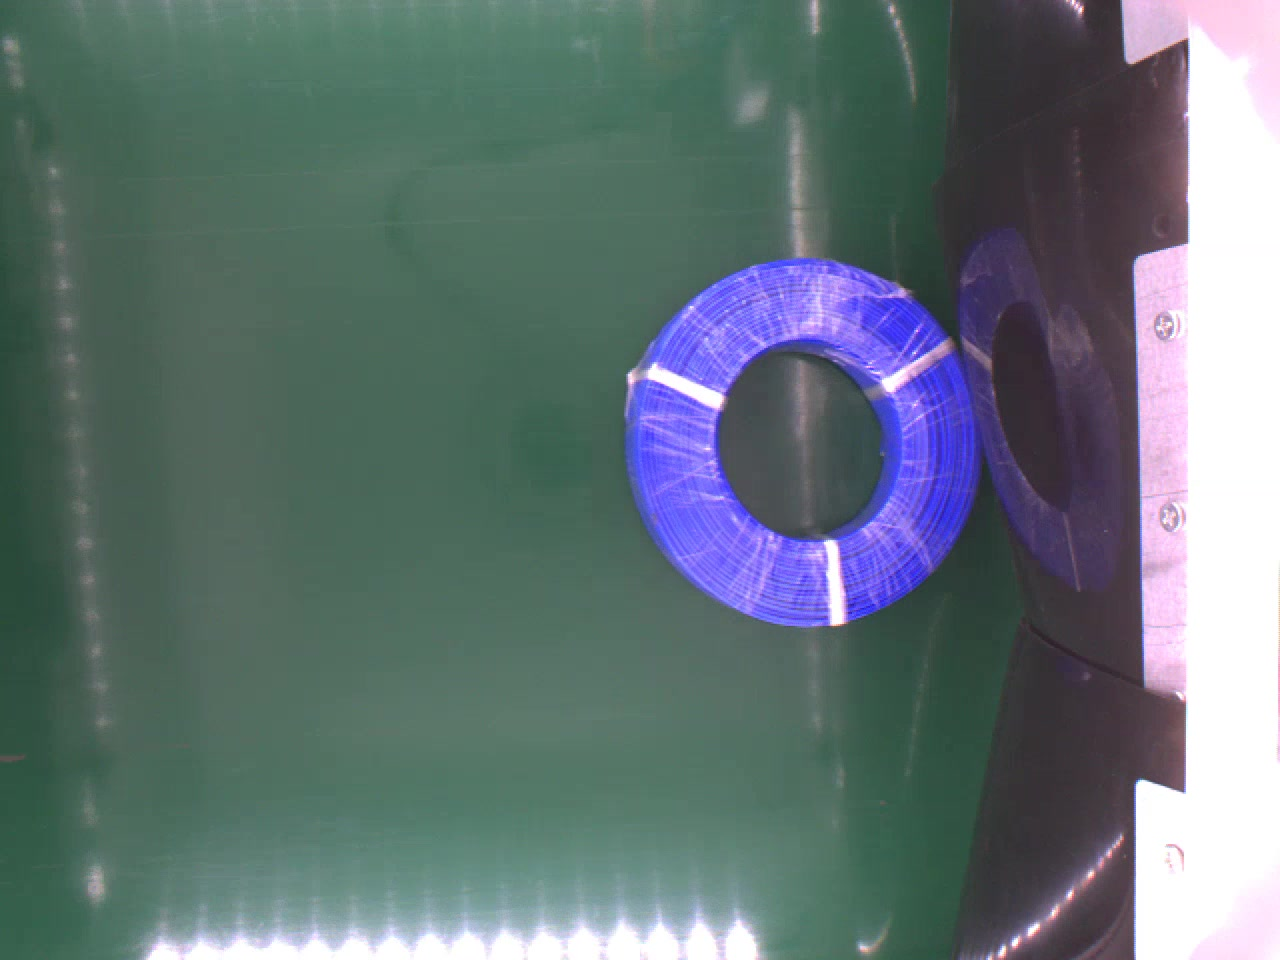blue: (619, 254, 984, 630)
